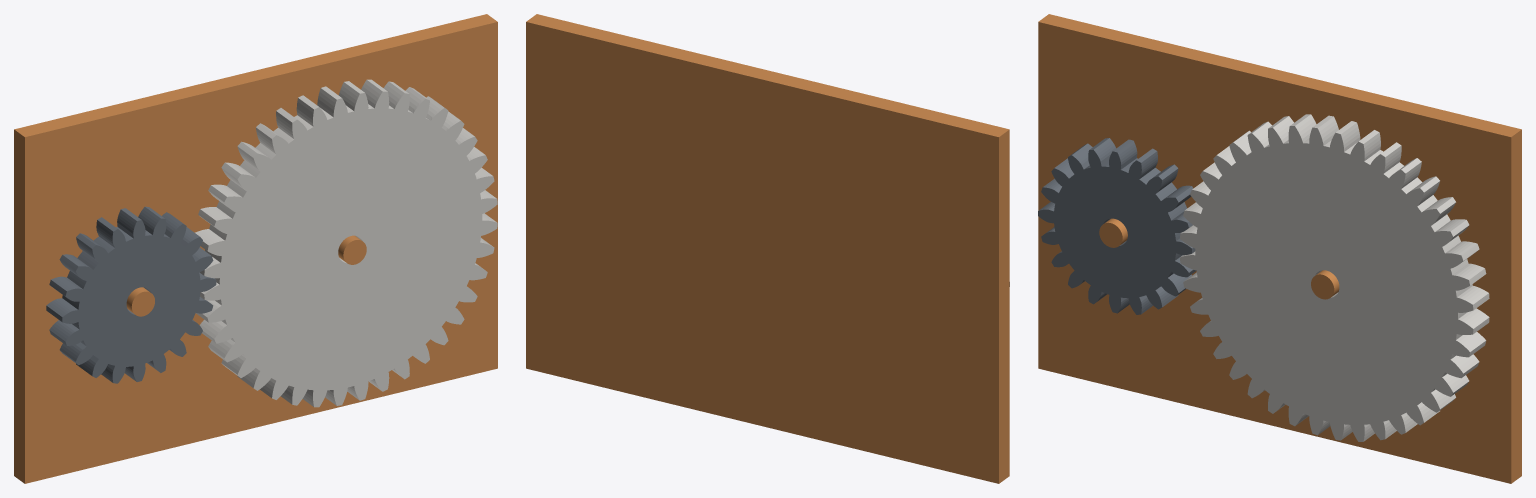
3 renders of one model, left to right at view 1: azimuth 30°, elevation 25°; view 2: azimuth 150°, elevation 25°; view 3: azimuth 330°, elevation 25°, orthographic.
Visible parts, largest first — view 1: support, roue, pignon; view 2: support; view 3: support, roue, pignon.
Boxes of the visible parts, <box> form: support: <box>14,14,497,483</box>; roue: <box>195,79,497,407</box>; pignon: <box>46,206,216,383</box>; support: <box>526,14,1009,483</box>; support: <box>1038,14,1521,483</box>; roue: <box>1180,114,1489,441</box>; pignon: <box>1038,138,1196,314</box>.
Size of the model in its own units: 101 by 71 by 12.5.
